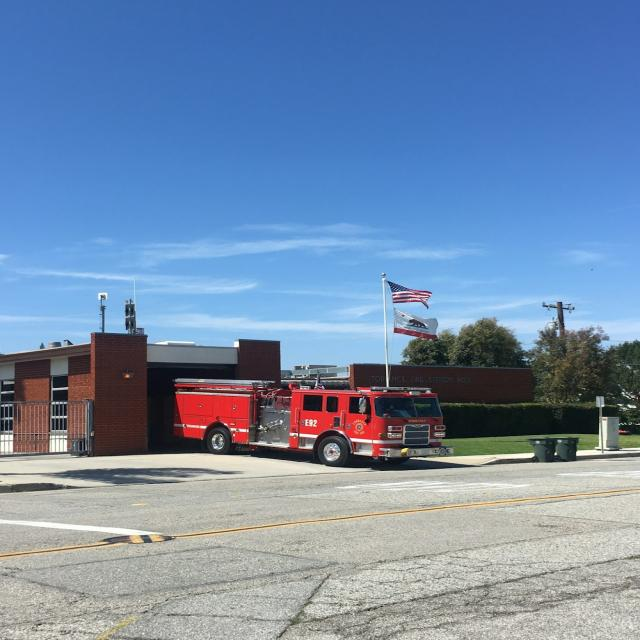emergency: (173, 379, 453, 466)
